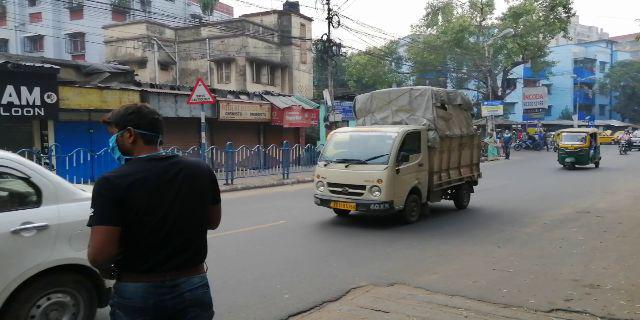Autorickshaw: (554, 132, 601, 169)
Minitruck: (311, 125, 486, 221)
